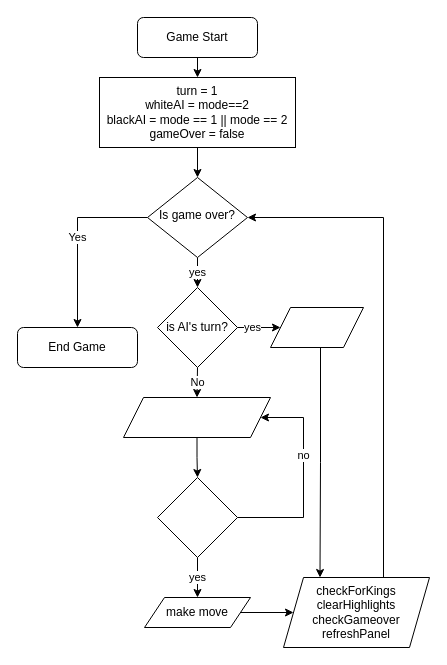
This 447x665 diagram has some shape labels left out. The shapes that lost their labels are listed below. From the top down, each one's centre as x and y in pixels, then its label:
At point 317,327: "move AI".
At point 196,417: "Handle users Click".
At point 197,517: "is valid move".
